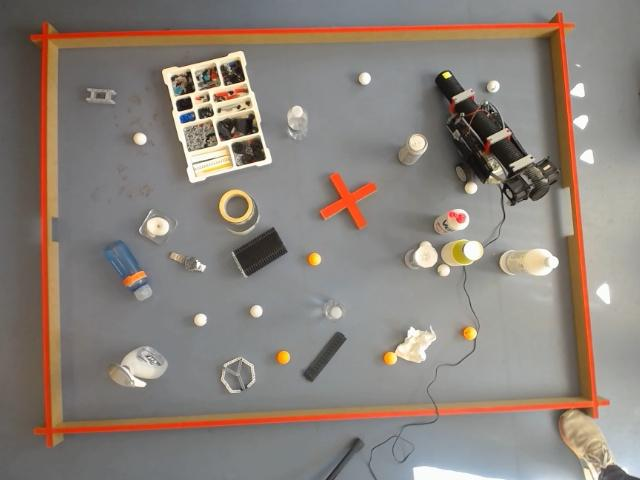orange: (462, 326, 478, 341), (276, 350, 292, 365), (306, 252, 322, 267), (382, 351, 398, 365)
robot: (434, 70, 557, 206)
robot-front: (436, 71, 462, 100)
white: (130, 132, 150, 148), (192, 312, 208, 329), (464, 180, 478, 194), (250, 305, 263, 318), (487, 80, 500, 93), (437, 264, 449, 277), (359, 72, 371, 85)
